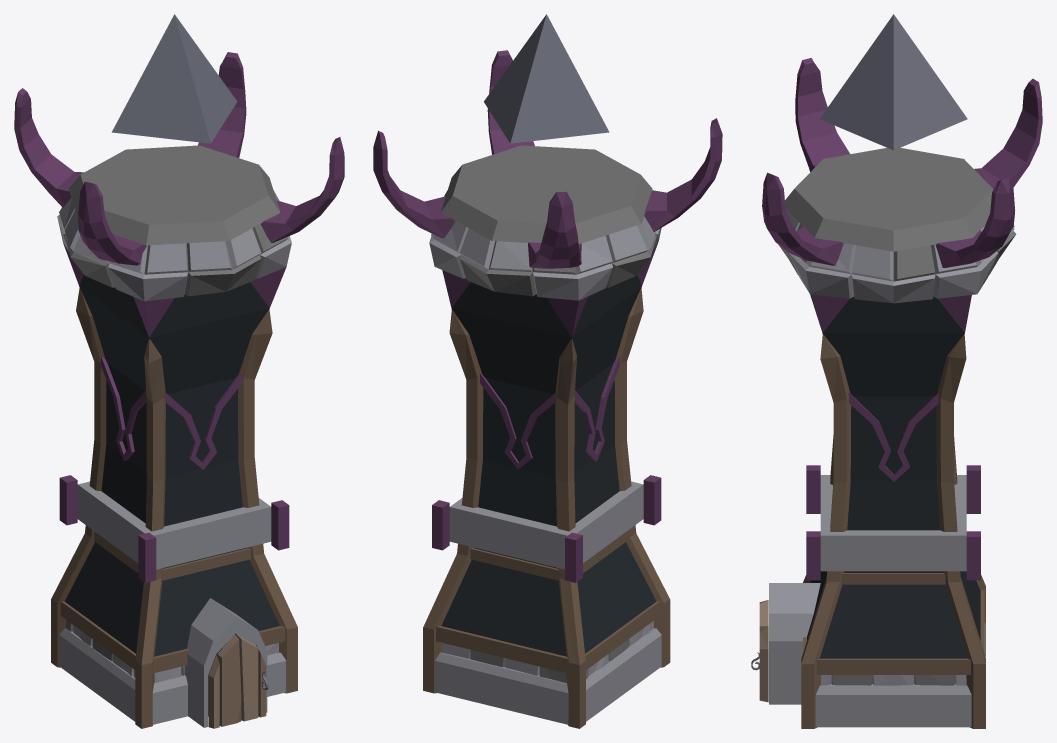
The model's file is Poison_LVL2.fbx.
The picture shows the model from 3 angles, left to right: view 1: azimuth 30°, elevation 25°; view 2: azimuth 150°, elevation 25°; view 3: azimuth 270°, elevation 25°; orthographic projection. The views are drawn at different scales.
Visible parts, largest first — view 1: Poison_tower_LVL_2, Poison_tower_LVL_2.001; view 2: Poison_tower_LVL_2, Poison_tower_LVL_2.001; view 3: Poison_tower_LVL_2, Poison_tower_LVL_2.001.
Part boxes in pixels (box(x1,y1,x2,y2)): Poison_tower_LVL_2: box(14, 52, 344, 728); Poison_tower_LVL_2.001: box(111, 14, 237, 143); Poison_tower_LVL_2: box(373, 50, 722, 728); Poison_tower_LVL_2.001: box(484, 14, 609, 143); Poison_tower_LVL_2: box(751, 58, 1042, 728); Poison_tower_LVL_2.001: box(820, 14, 967, 150).
Bounding box in the file's own units: 610 × 1528 × 597.
